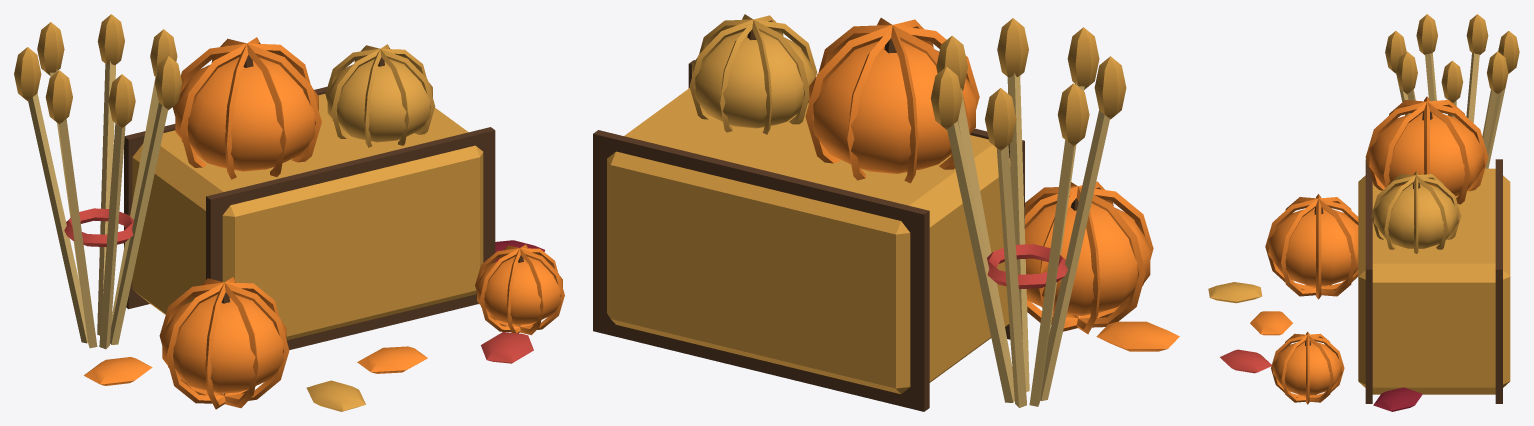
File: PR_Season_Hasat_Yigin.fbx
3 renders of one model, left to right at view 1: azimuth 30°, elevation 25°; view 2: azimuth 150°, elevation 25°; view 3: azimuth 270°, elevation 25°, orthographic. The views are drawn at different scales.
Visible parts, largest first — view 1: PR_Season_Hasat_Yigin; view 2: PR_Season_Hasat_Yigin; view 3: PR_Season_Hasat_Yigin.
Boxes of the visible parts, x1,y1,x2,y2 form: PR_Season_Hasat_Yigin: (14,14,564,411); PR_Season_Hasat_Yigin: (593,14,1179,411); PR_Season_Hasat_Yigin: (1208,14,1519,411).
Size of the model in its own units: 1.2 by 0.7433 by 0.8607.
